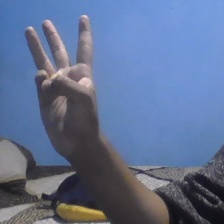W: (19, 10, 106, 162)
